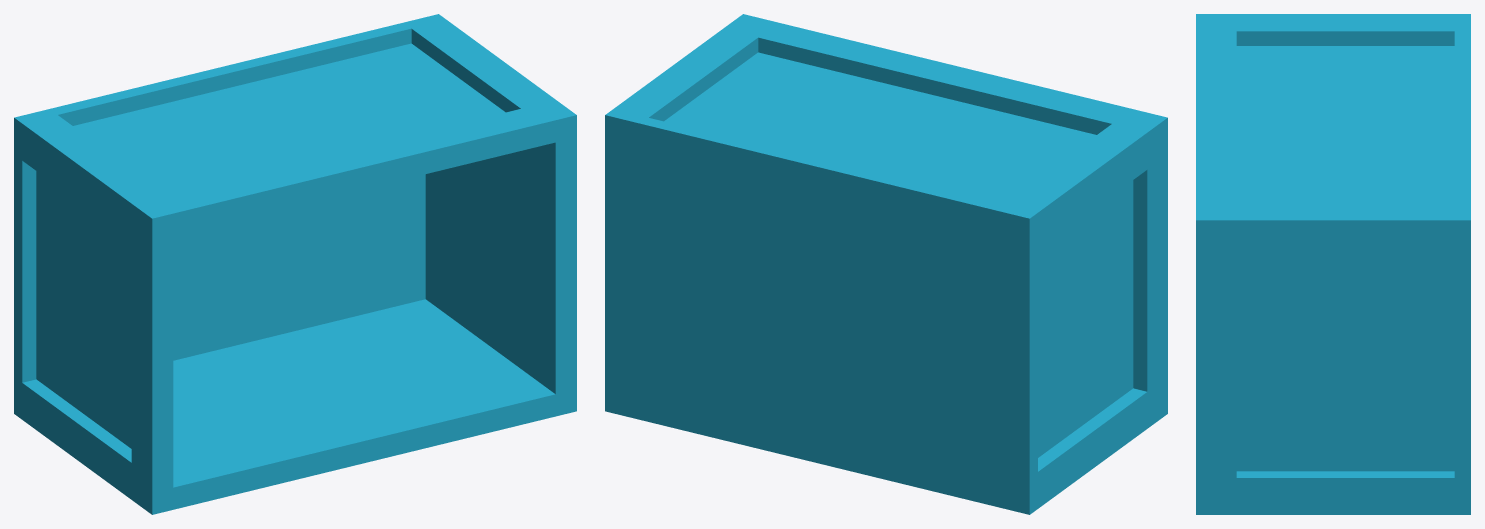
File: box_opened.dae
The picture shows the model from 3 angles, left to right: view 1: azimuth 30°, elevation 25°; view 2: azimuth 150°, elevation 25°; view 3: azimuth 270°, elevation 25°; orthographic projection.
Visible parts, largest first — view 1: coords_ME_ID35_MA_Box, coords_ME_ID3_MA_Box, coords_ME_ID23_MA_Box, coords_ME_ID11_MA_Box; view 2: coords_ME_ID3_MA_Box, coords_ME_ID23_MA_Box, coords_ME_ID11_MA_Box; view 3: coords_ME_ID3_MA_Box, coords_ME_ID29_MA_Box, coords_ME_ID23_MA_Box.
Part boxes in pixels (x1,y1,x2,y2): coords_ME_ID35_MA_Box: [173, 142, 555, 487]; coords_ME_ID3_MA_Box: [14, 14, 576, 514]; coords_ME_ID23_MA_Box: [58, 28, 520, 194]; coords_ME_ID11_MA_Box: [22, 161, 131, 462]; coords_ME_ID3_MA_Box: [605, 14, 1167, 514]; coords_ME_ID23_MA_Box: [649, 37, 1111, 203]; coords_ME_ID11_MA_Box: [1038, 170, 1147, 471]; coords_ME_ID3_MA_Box: [1196, 14, 1470, 514]; coords_ME_ID29_MA_Box: [1236, 257, 1454, 477]; coords_ME_ID23_MA_Box: [1236, 31, 1454, 202].
Size of the model in its own units: 5.4 by 3.6 by 3.04.
